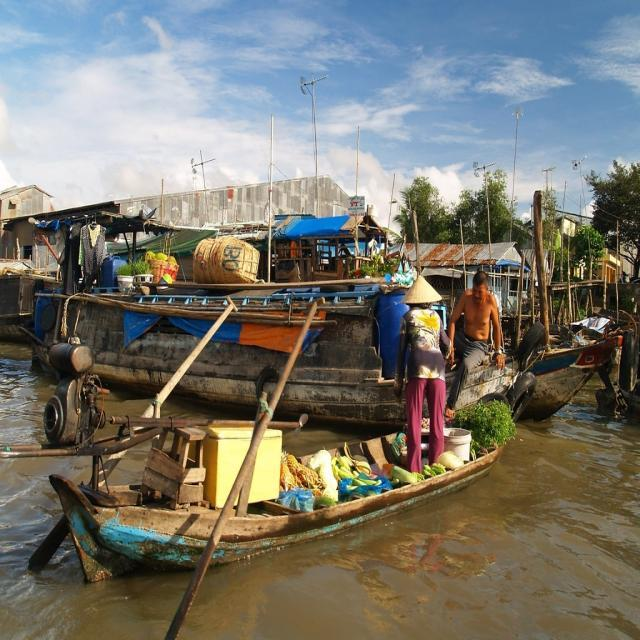boat: (68, 406, 526, 568), (59, 280, 519, 426)
